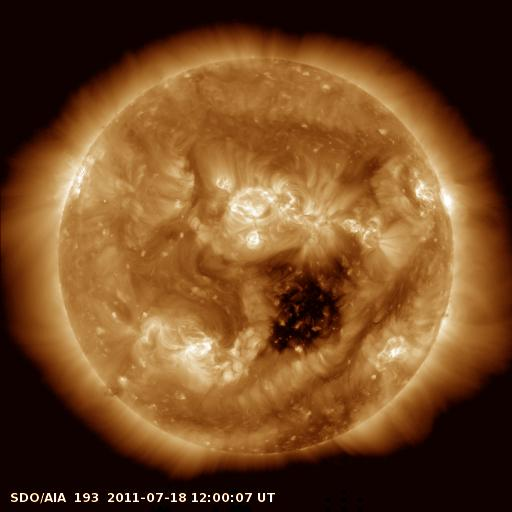coronal_hole: (260, 260, 356, 358), (269, 395, 367, 456)
